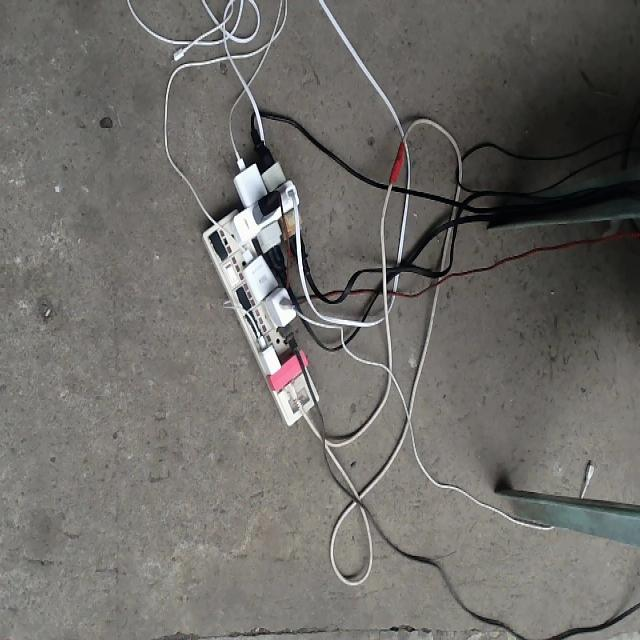-: (201, 125, 318, 423)
